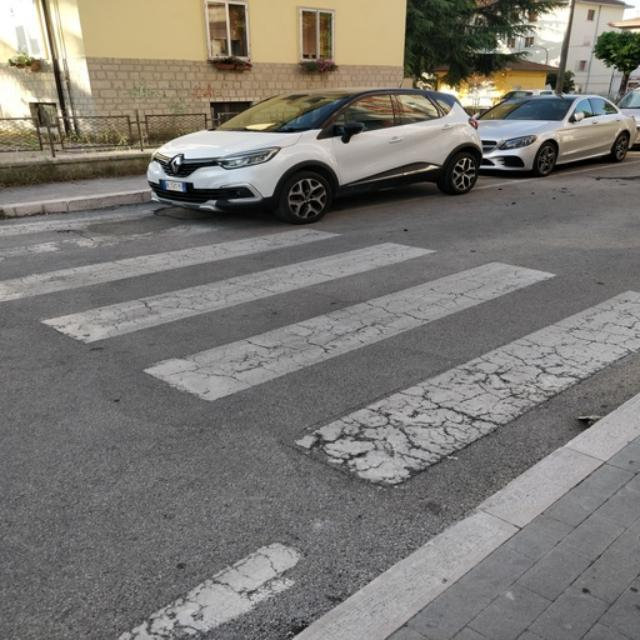sidewalk: (0, 160, 640, 525)
